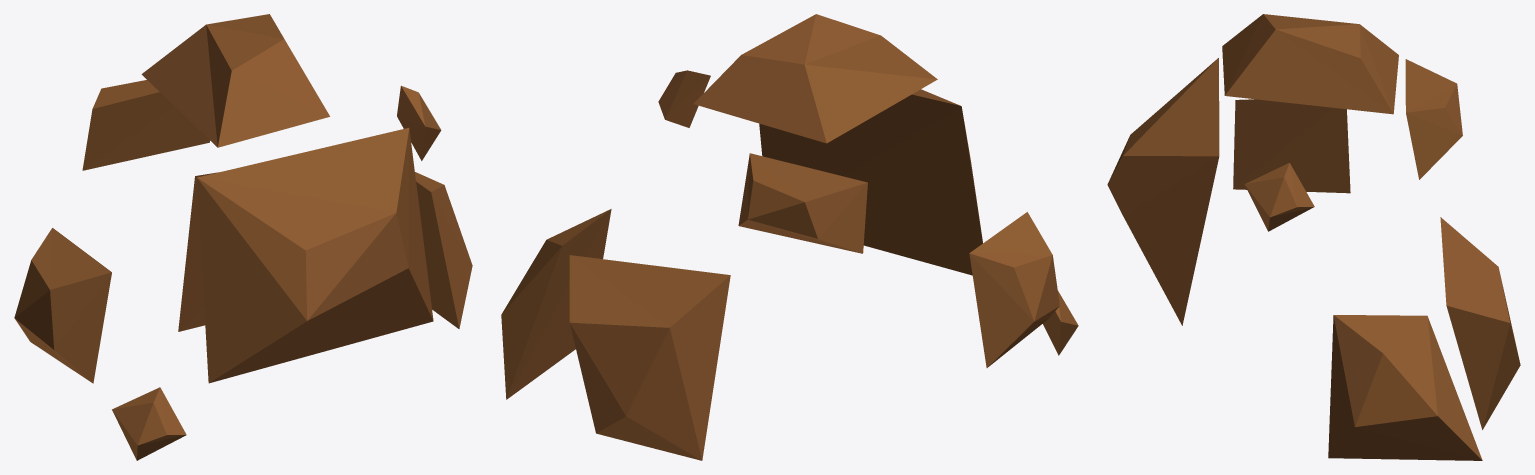
Rendered from CopperOreA.fbx.
3 views of the same model, side by side, from view 1: azimuth 30°, elevation 25°; view 2: azimuth 150°, elevation 25°; view 3: azimuth 270°, elevation 25° (orthographic). The views are drawn at different scales.
Visible parts, largest first — view 1: CopperOreA; view 2: CopperOreA; view 3: CopperOreA.
Boxes of the visible parts, x1,y1,x2,y2 form: CopperOreA: (14, 14, 472, 460); CopperOreA: (501, 14, 1078, 460); CopperOreA: (1107, 14, 1520, 460).
Size of the model in its own units: 55.48 by 41.45 by 44.31.
